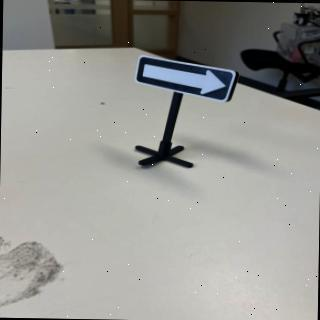sign_oneway_right: (135, 56, 241, 104)
